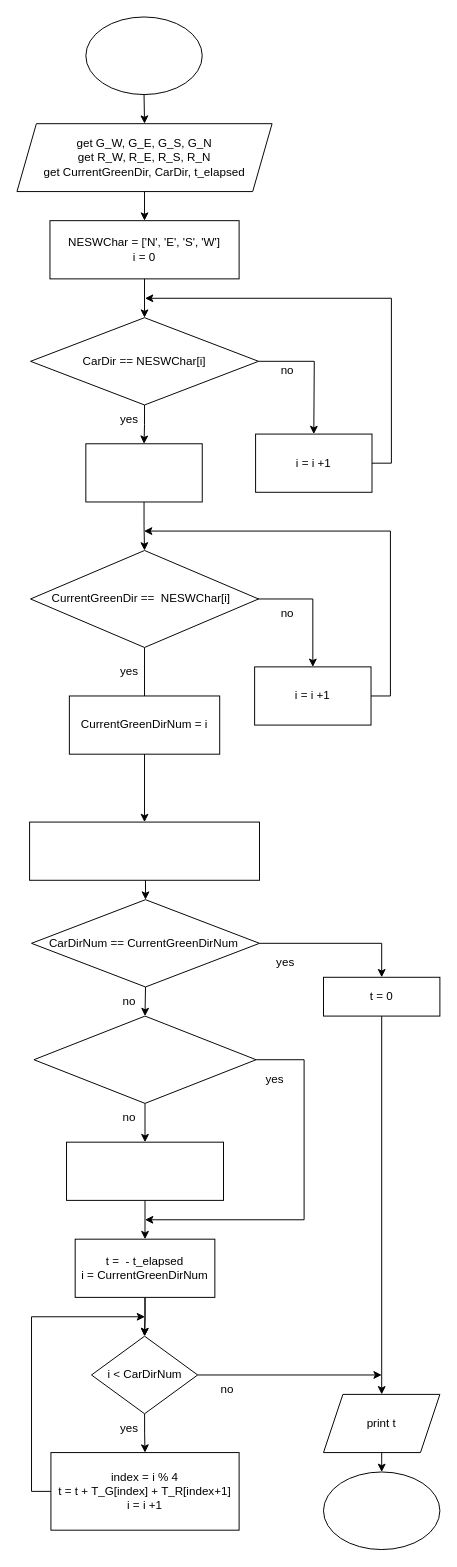
The diagram is 457 pixels wide and 1567 high, and some of its shapes have lost their labels. Each missing label, with the box of its shape:
CarDirNum = CarDirNum +4: (66, 1141, 223, 1200)
CarDirNum = i i = 0: (85, 443, 202, 502)
CarDirNum > CurrentGreenDirNum: (33, 1015, 256, 1103)
end: (323, 1471, 440, 1550)
G_T = [G_N, G_E, G_S, G_W] G_R = [R_N, R_E, R_S, R_W]: (29, 821, 259, 880)
start: (85, 16, 202, 95)
